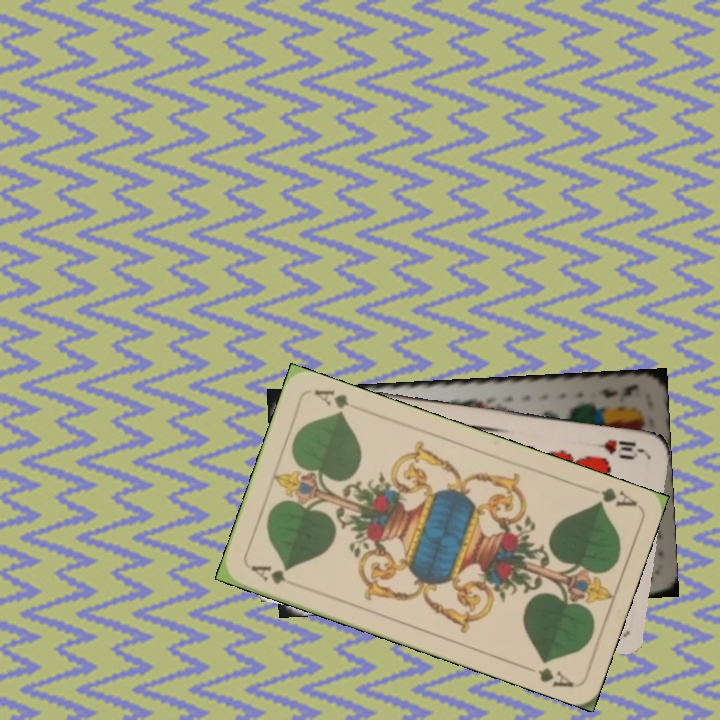EK: (595, 380, 641, 401)
GA: (247, 561, 302, 591), (591, 483, 639, 509)
H10: (586, 435, 645, 461)
